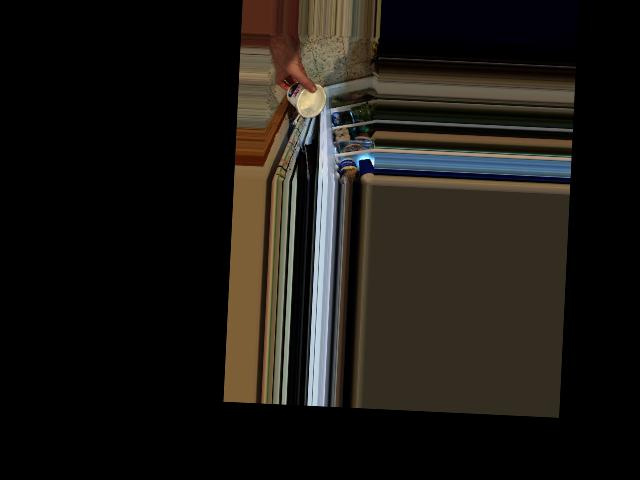cotage: (284, 79, 324, 118)
